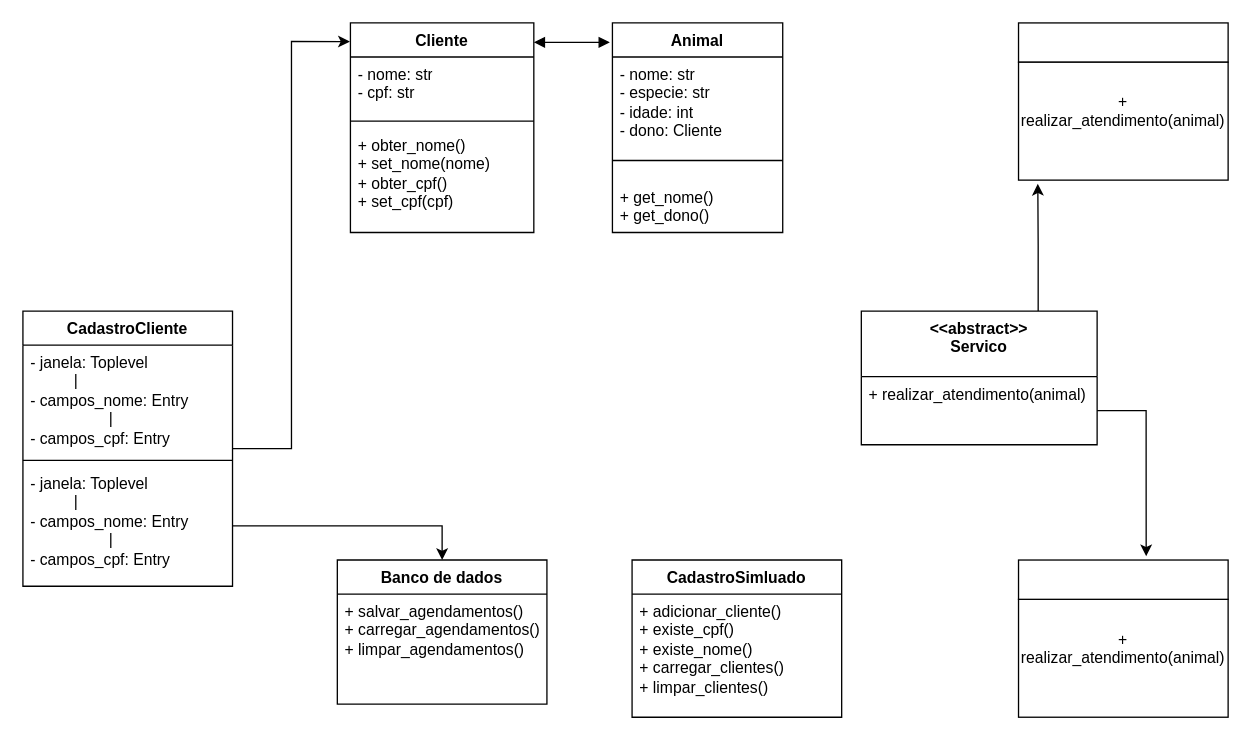
This 1251x744 diagram has some shape labels left out. Each missing label, with the centre of its shape:
"Banho" belongs at [1122,579].
"Tosa" belongs at [1122,42].
